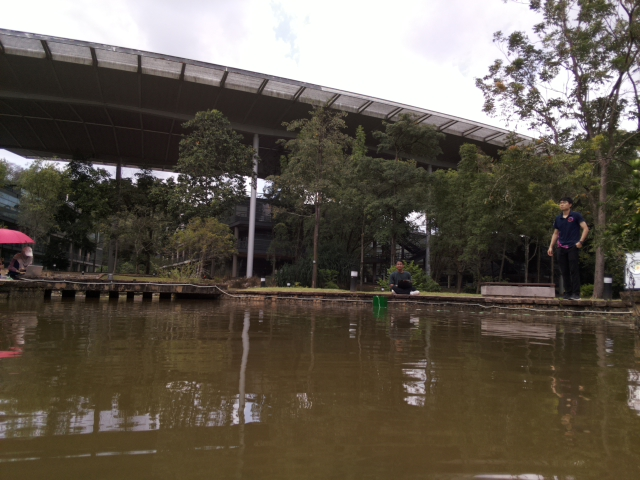obstacle: (371, 295, 388, 312)
